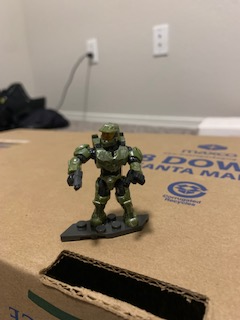chief: (66, 122, 145, 229)
pistol: (122, 167, 145, 190), (68, 169, 85, 192)
spartan: (64, 120, 143, 227)
